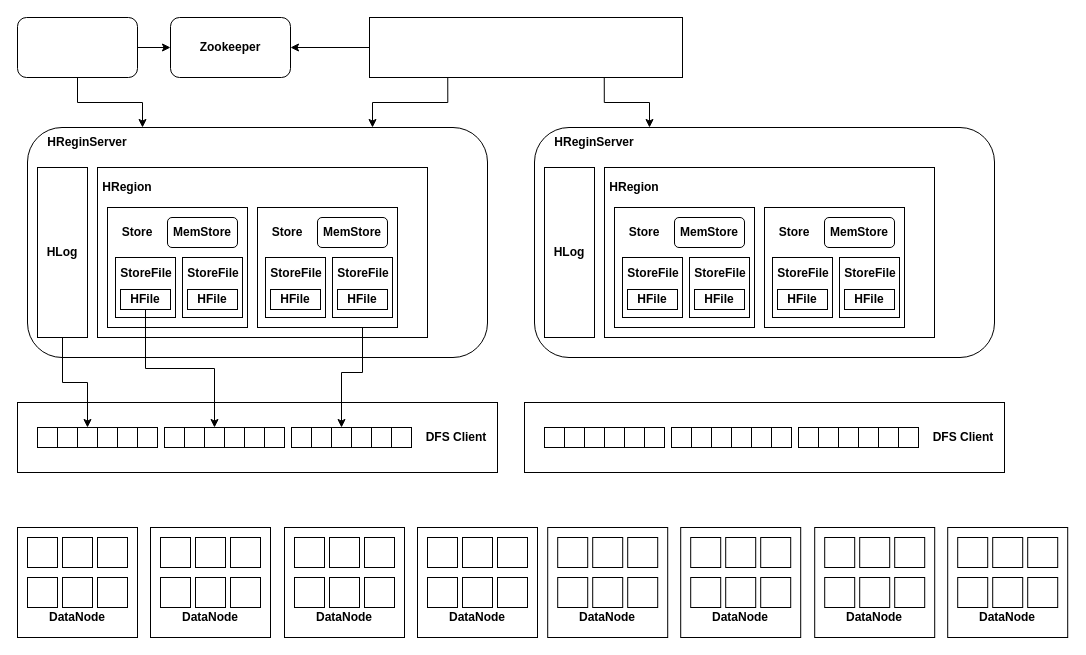
The diagram is 1086 pixels wide and 655 high, and some of its shapes have lost their labels. Each missing label, with the centre of its shape:
Client: the point at 77,47
HMaster: the point at 525,47
